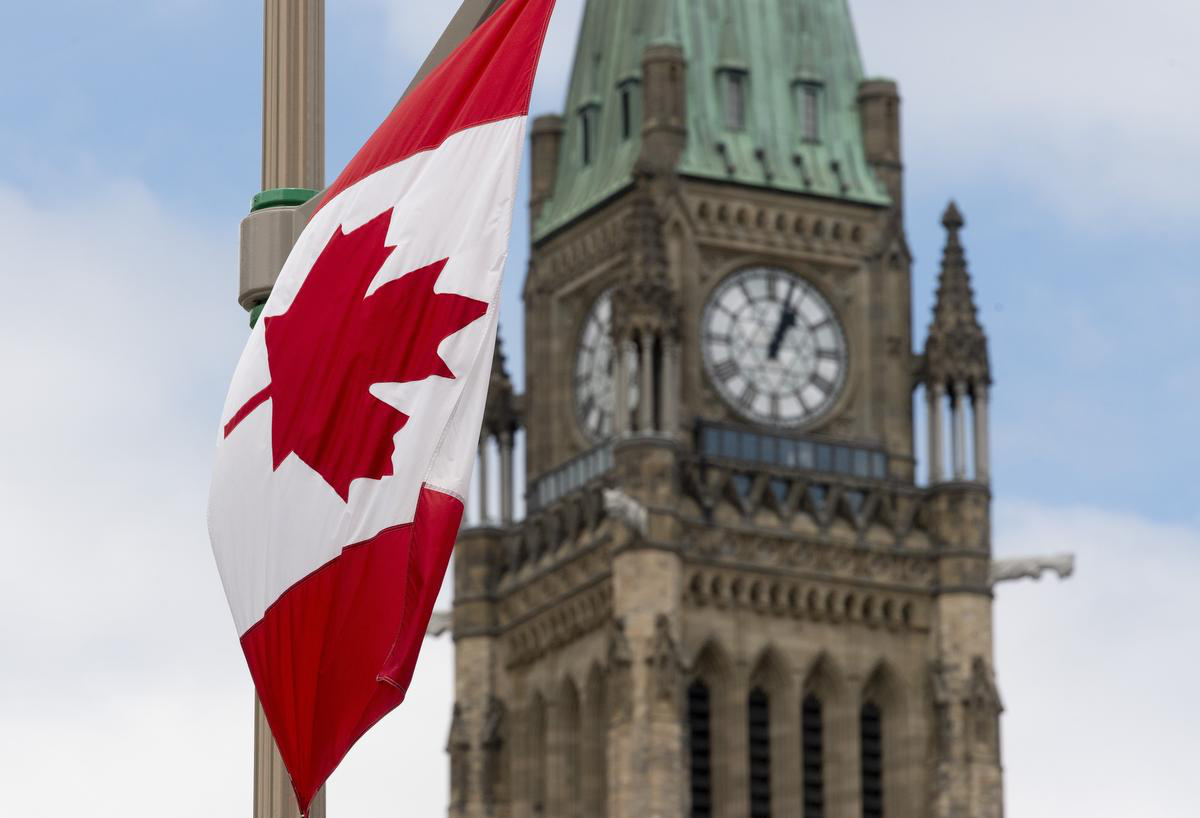Canada flag: (209, 2, 563, 815)
